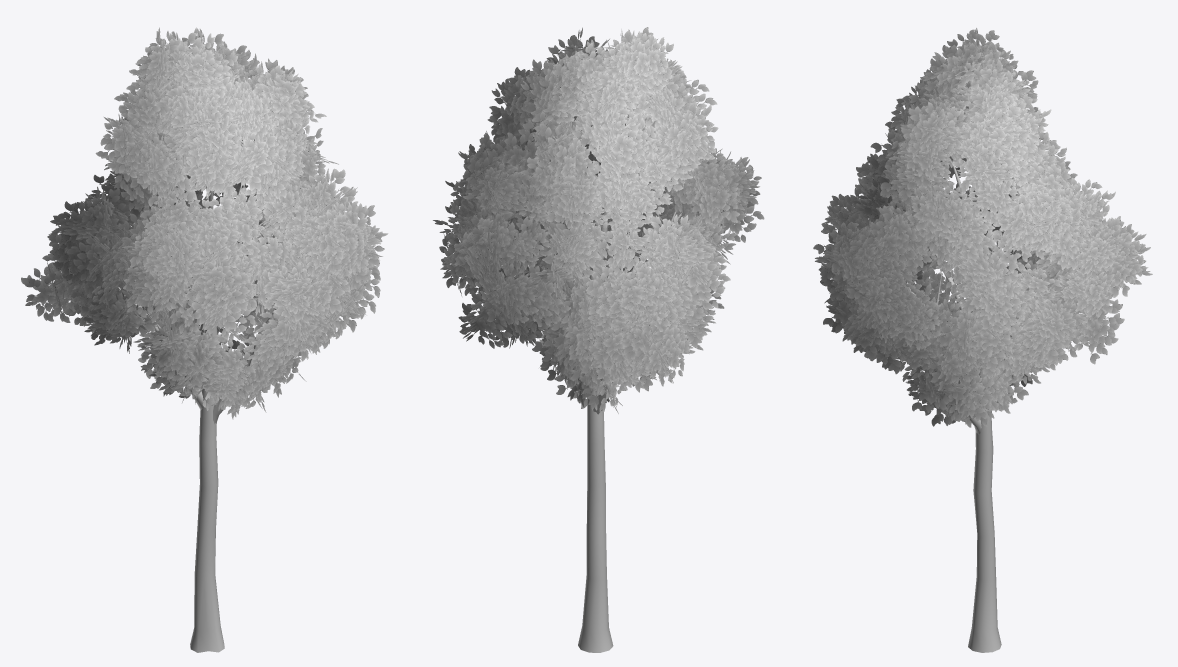
File: SM_Birch_01_Unity.fbx
3 views of the same model, side by side, from view 1: azimuth 30°, elevation 25°; view 2: azimuth 150°, elevation 25°; view 3: azimuth 270°, elevation 25° (orthographic). The views are drawn at different scales.
Parts seen in each view (by area): view 1: Birch_01_LOD0; view 2: Birch_01_LOD0; view 3: Birch_01_LOD0.
Part boxes in pixels (box(x1,y1,x2,y2)): Birch_01_LOD0: box(21, 27, 388, 652); Birch_01_LOD0: box(433, 27, 764, 652); Birch_01_LOD0: box(813, 28, 1152, 652).
Size of what is drawn, in the model's own units: 59.57 by 136 by 72.4.
